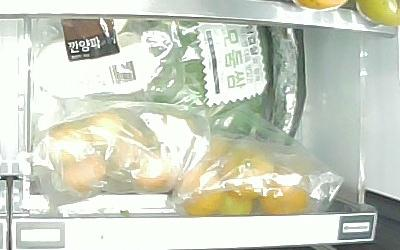tangerine_vinyl: (218, 148, 275, 197), (257, 166, 310, 214), (180, 164, 224, 216), (131, 152, 176, 194), (44, 129, 91, 167), (63, 156, 107, 193), (86, 113, 122, 149), (116, 135, 150, 171), (214, 187, 254, 216)
